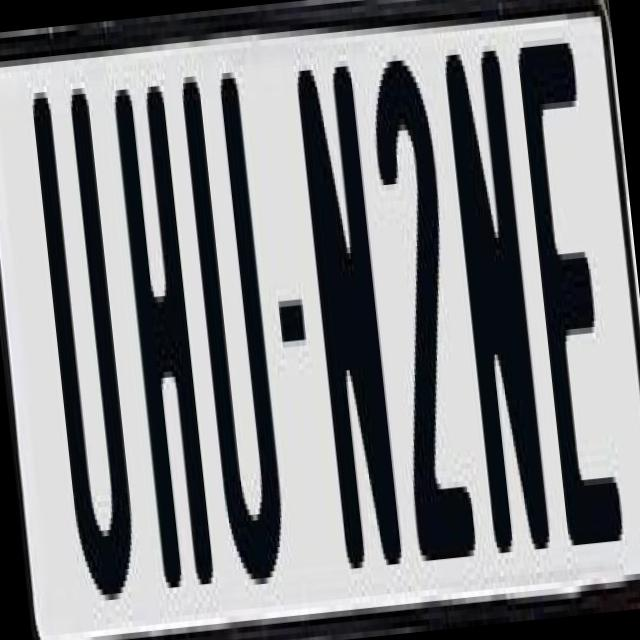2: (367, 56, 484, 578)
E: (510, 30, 630, 570)
H: (107, 85, 215, 594)
N: (438, 39, 548, 572), (290, 65, 400, 592)
U: (178, 70, 300, 610), (29, 87, 142, 631)
